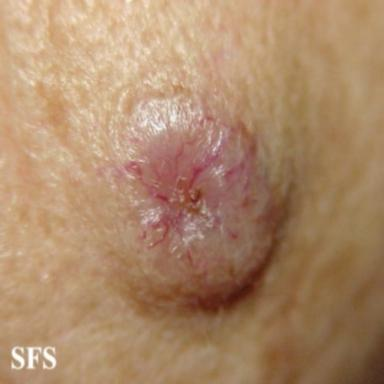basal-cell-carcinoma: (97, 85, 281, 306)
